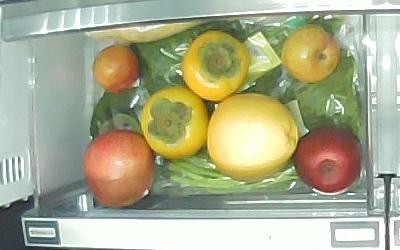apple: (84, 129, 156, 208), (294, 126, 362, 193)
grapefruit: (207, 93, 298, 179)
persimmon: (141, 85, 209, 159), (182, 30, 251, 101)
prune: (281, 25, 340, 83), (93, 45, 141, 93)
